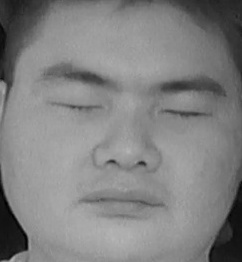blink: (52, 85, 105, 122), (159, 95, 214, 130)
mouth: (79, 178, 166, 223)
